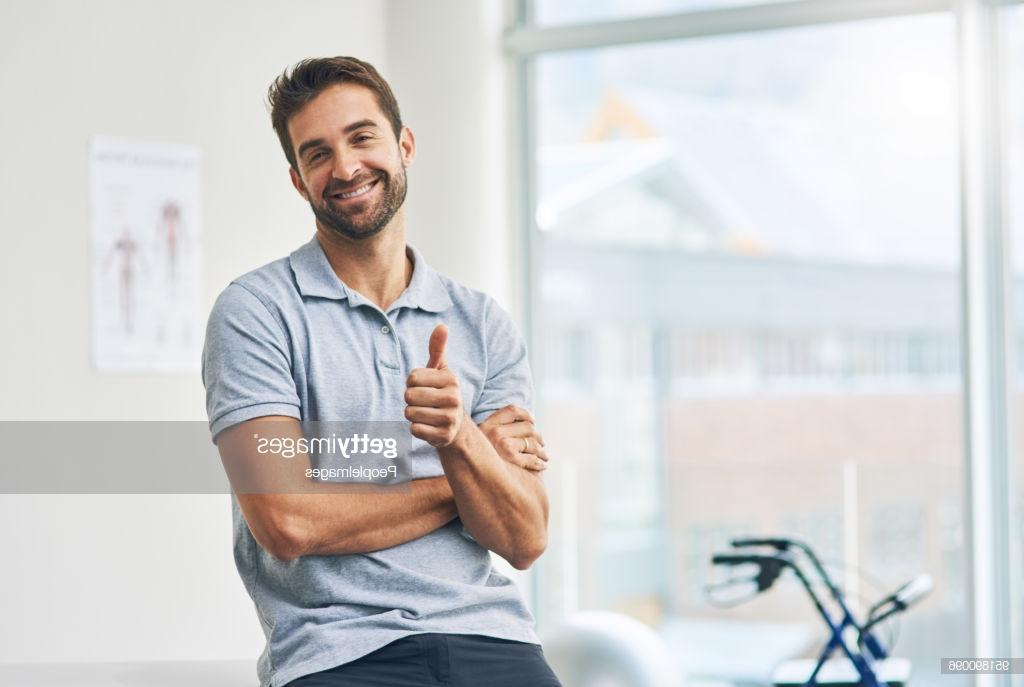thumbsup: (405, 324, 462, 441)
